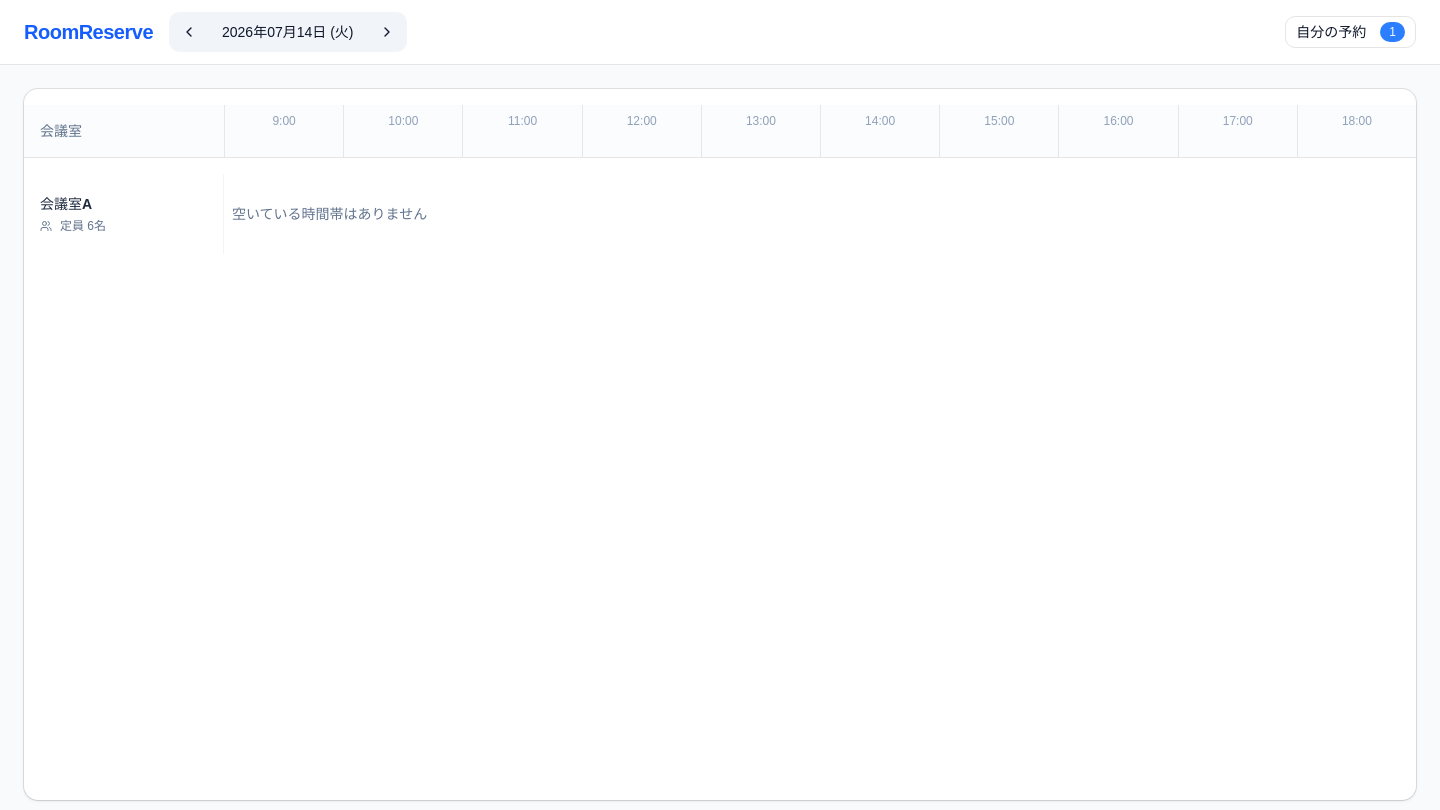
it: 自分の予約(RFE-C) › 開始直前になった予約をキャンセルしようとして拒否される
This screenshot has width=1440, height=810.
Click the button "自分の予約 1" at (1351, 32), box [1285,16,1416,48]
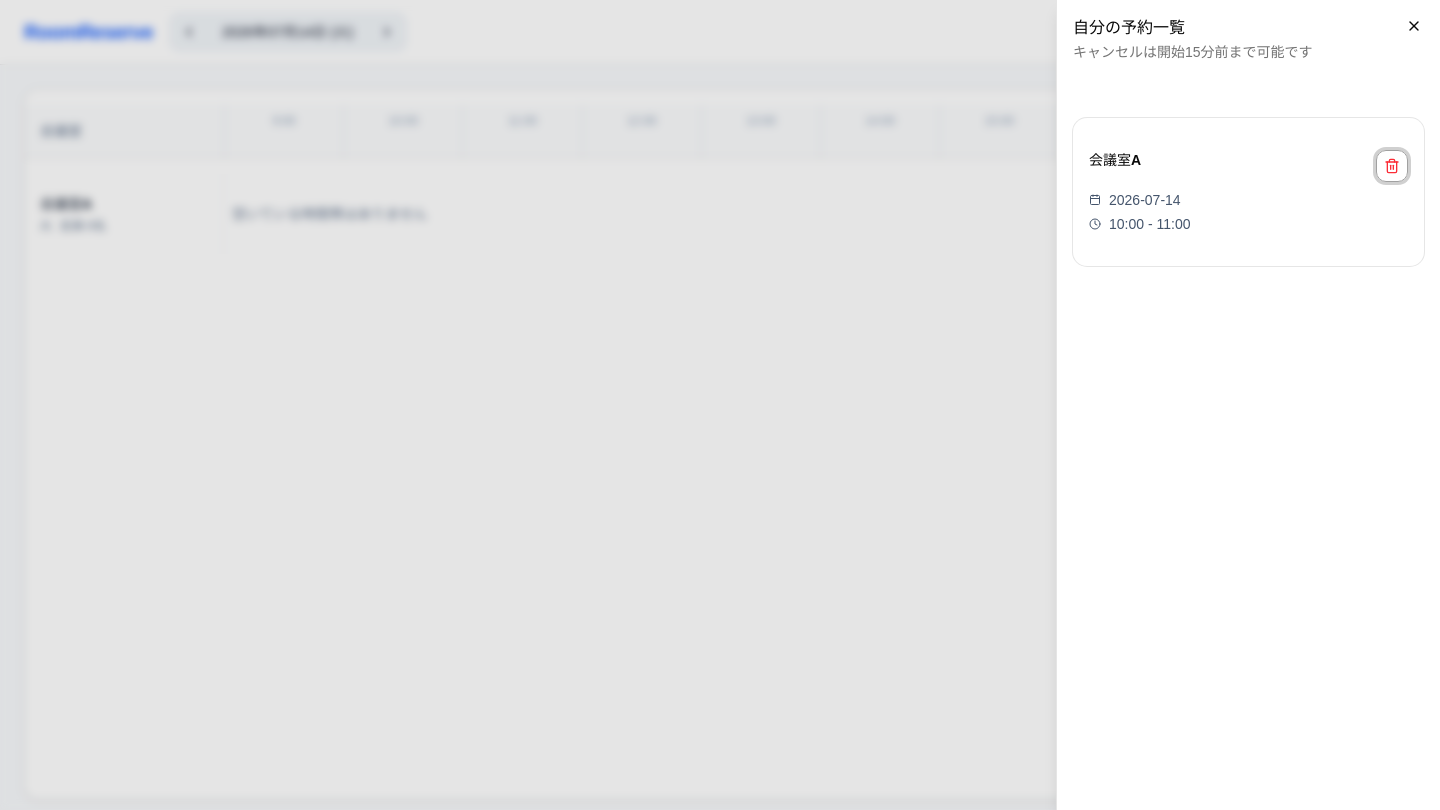
Click the button named "キャンセル" at (1392, 166), box [1376,150,1408,182]
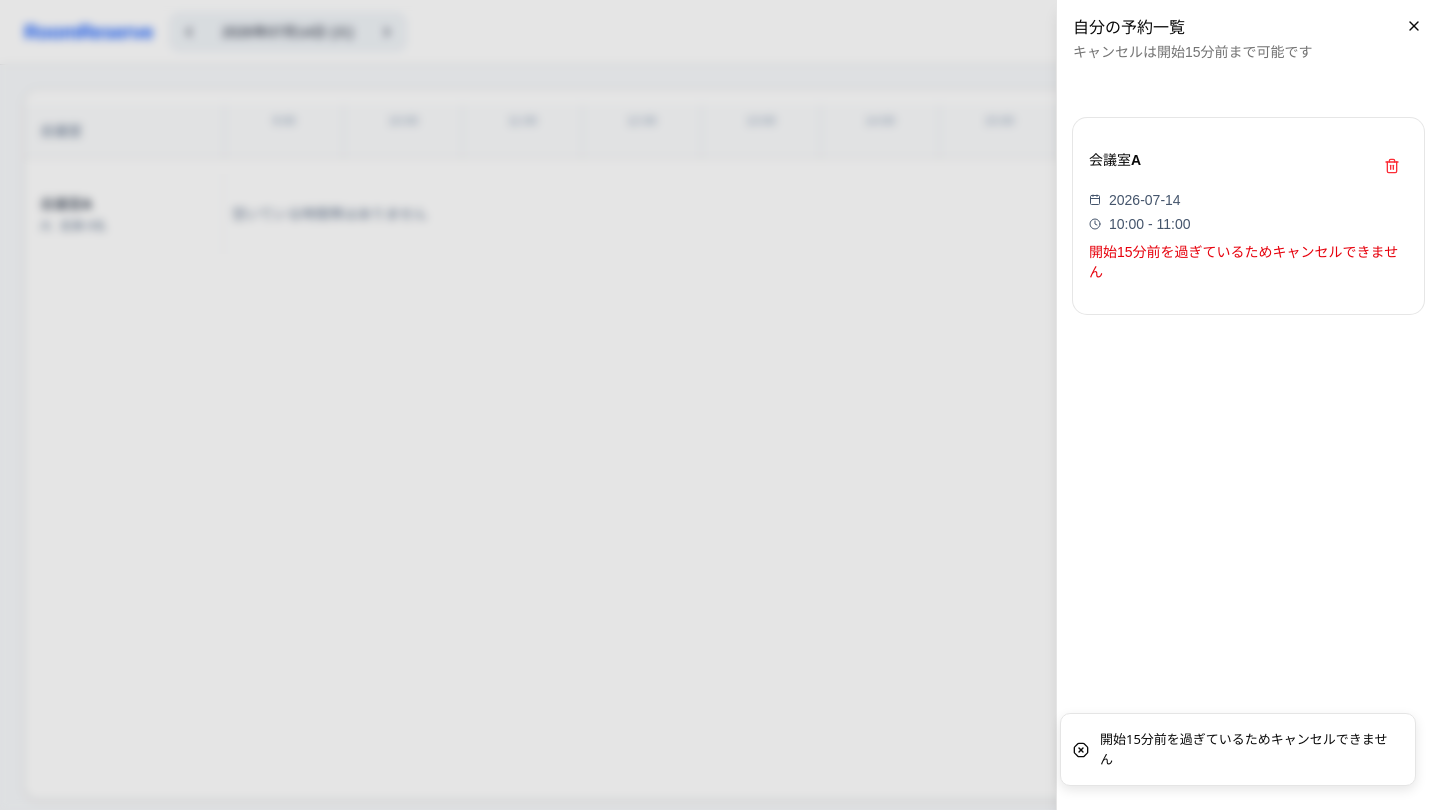
Expected: the text "10:00 - 11:00" is shown, [1089,216,1190,232]
Expected: the message reads "開始15分前を過ぎているためキャンセルできません", [1089,244,1398,280]
